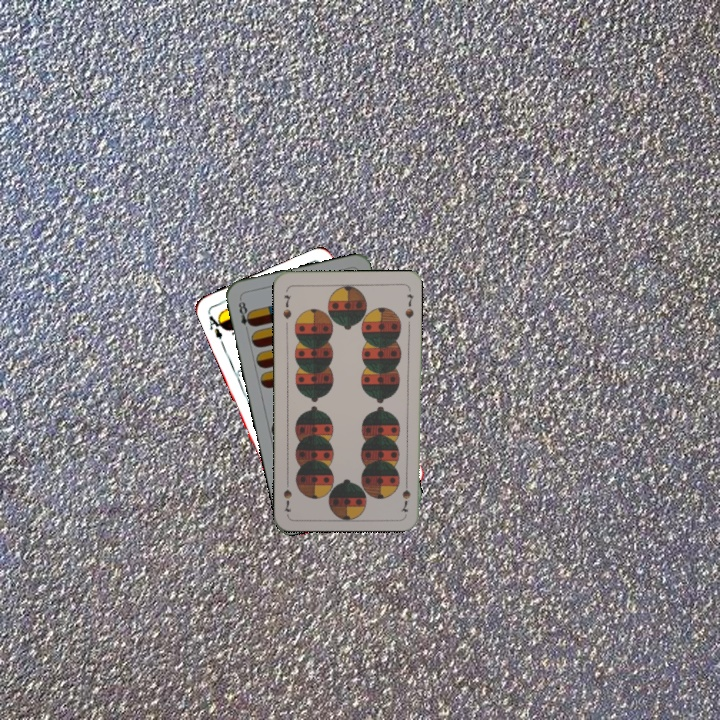E8: (234, 295, 256, 329)
EA: (205, 311, 228, 342)
S7: (398, 474, 413, 515), (279, 291, 294, 321)
